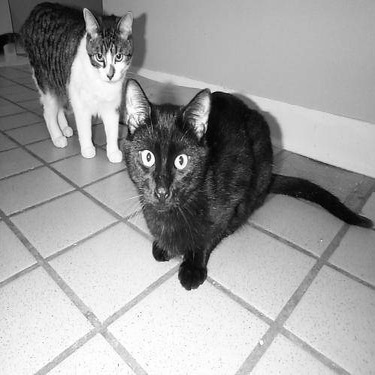cat: (116, 71, 369, 289), (20, 1, 139, 173)
